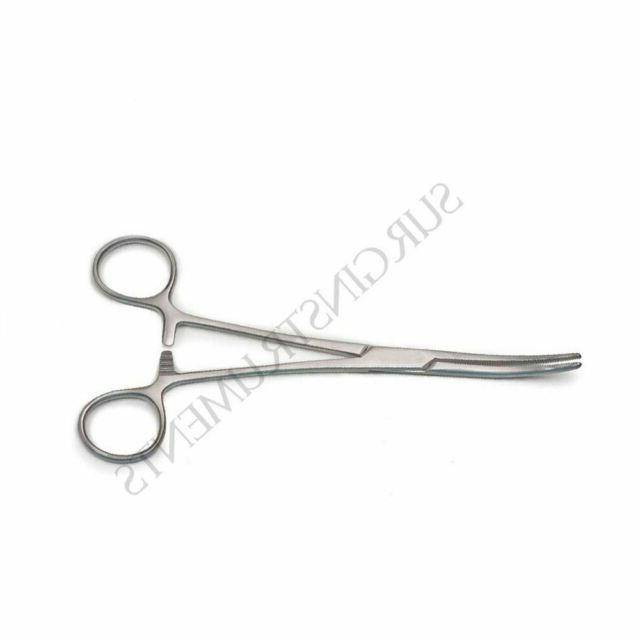Hemostat: (76, 231, 585, 467)
